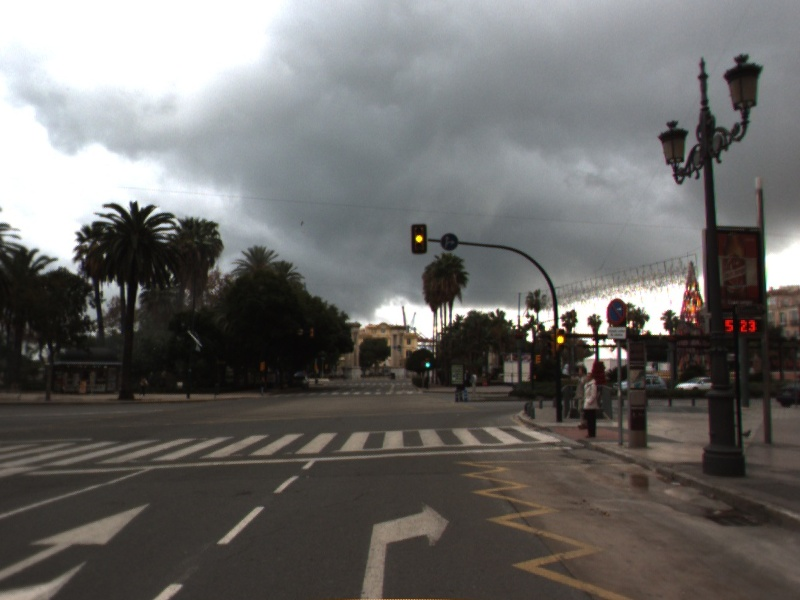RIGHT: (356, 495, 454, 600)
STRAIGHT_RIGHT: (1, 498, 154, 600)
